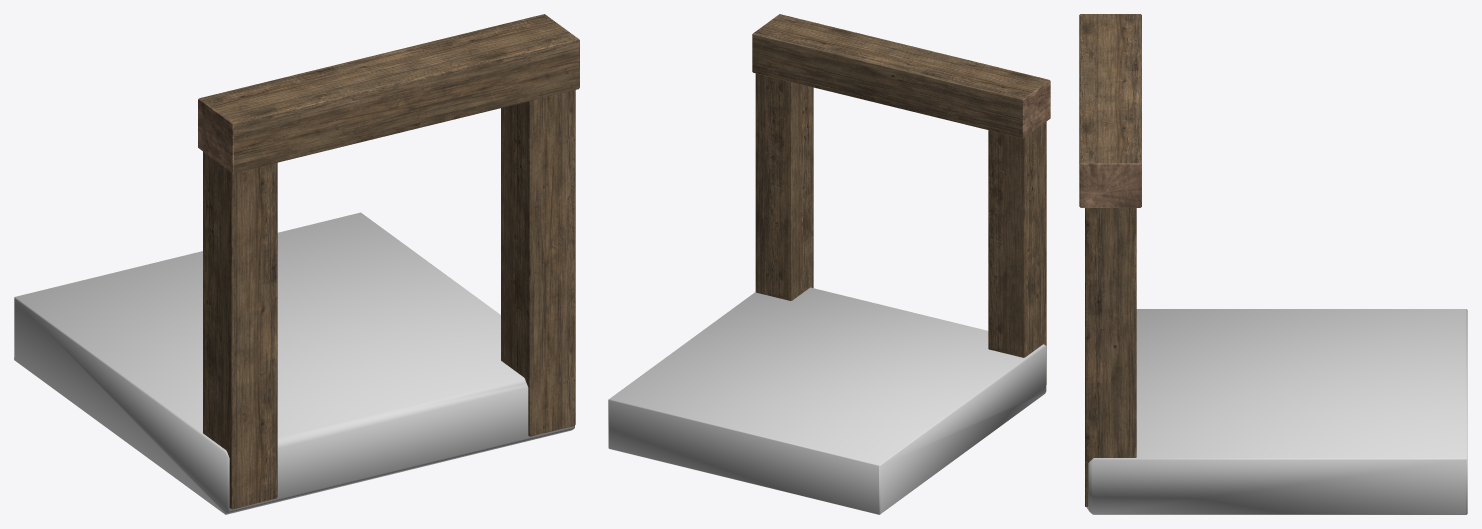
File: SM_DoorWay_P01_.fbx
3 views of the same model, side by side, from view 1: azimuth 30°, elevation 25°; view 2: azimuth 150°, elevation 25°; view 3: azimuth 270°, elevation 25° (orthographic). The views are drawn at different scales.
Visible parts, largest first — view 1: SM_DoorWay_P01__ConvexHulls, SM_DoorWay_P01_; view 2: SM_DoorWay_P01__ConvexHulls, SM_DoorWay_P01_; view 3: SM_DoorWay_P01__ConvexHulls, SM_DoorWay_P01_.
Part boxes in pixels (bbox=[...]): SM_DoorWay_P01__ConvexHulls: bbox=[14, 212, 574, 514]; SM_DoorWay_P01_: bbox=[198, 14, 579, 509]; SM_DoorWay_P01__ConvexHulls: bbox=[608, 287, 1046, 514]; SM_DoorWay_P01_: bbox=[752, 14, 1050, 384]; SM_DoorWay_P01__ConvexHulls: bbox=[1087, 309, 1467, 514]; SM_DoorWay_P01_: bbox=[1079, 14, 1141, 507].
Bounding box in the file's own units: 3.03 × 3.3 × 3.3.
